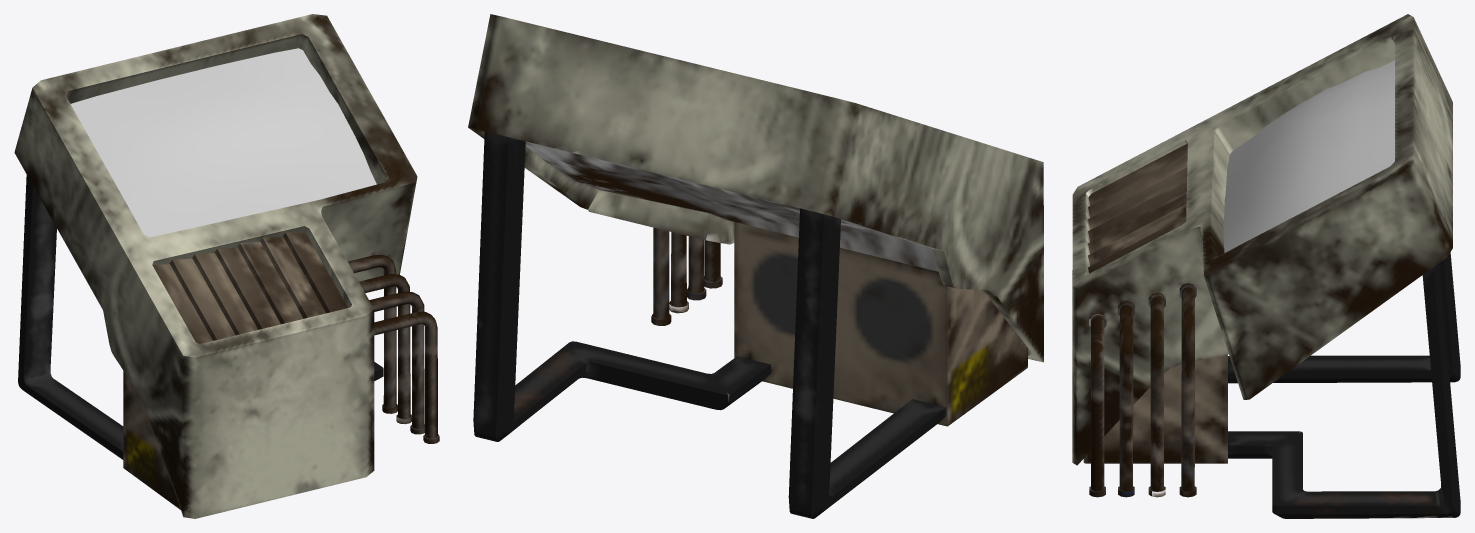
The model's file is SM_CyberLight04.fbx.
3 views of the same model, side by side, from view 1: azimuth 30°, elevation 25°; view 2: azimuth 150°, elevation 25°; view 3: azimuth 270°, elevation 25° (orthographic). The views are drawn at different scales.
Visible parts, largest first — view 1: SM_CyberLight04_LOD0; view 2: SM_CyberLight04_LOD0; view 3: SM_CyberLight04_LOD0.
Part boxes in pixels (x1=…): SM_CyberLight04_LOD0: x1=14, y1=14, x2=439, y2=518; SM_CyberLight04_LOD0: x1=468, y1=14, x2=1043, y2=518; SM_CyberLight04_LOD0: x1=1072, y1=14, x2=1460, y2=518.
Bounding box in the file's own units: 54.08 × 56.36 × 57.03.
Materials: 2 (1 with a texture image).
